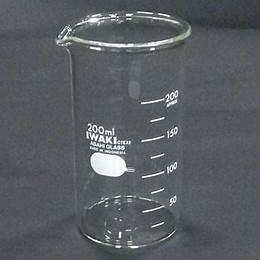Beaker: (53, 15, 191, 248)
